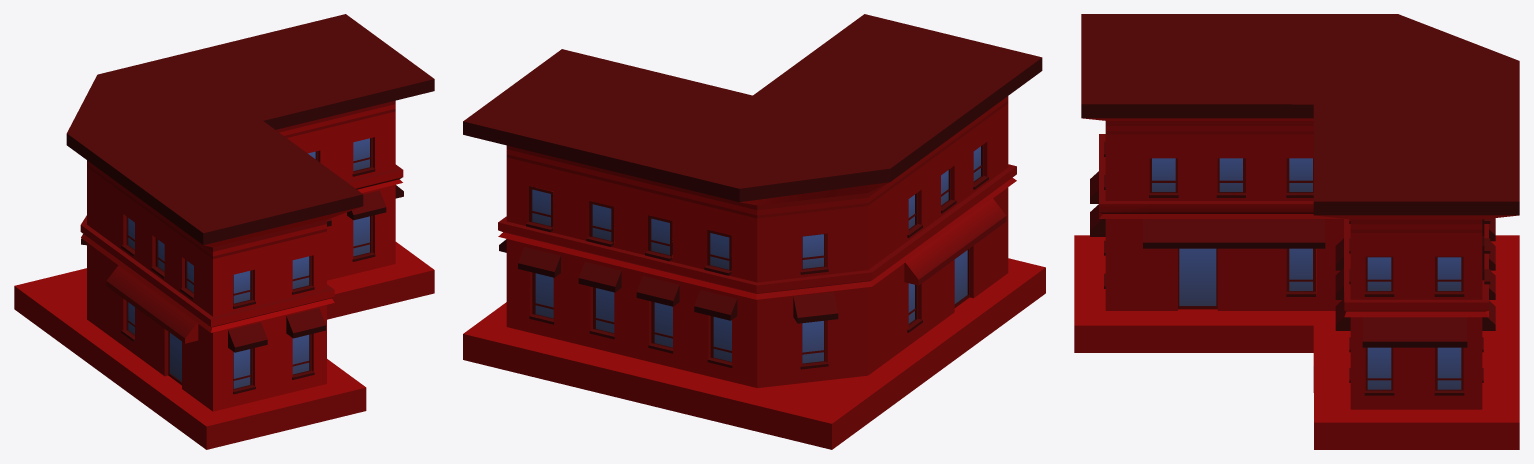
Rendered from RC_ComBuilding2.fbx.
3 views of the same model, side by side, from view 1: azimuth 30°, elevation 25°; view 2: azimuth 150°, elevation 25°; view 3: azimuth 270°, elevation 25° (orthographic). The views are drawn at different scales.
Visible parts, largest first — view 1: base.079, color.008, windowRefl.061; view 2: base.079, windowRefl.061, color.008; view 3: base.079, color.008, windowRefl.061.
Part boxes in pixels (x1,y1,x2,y2): base.079: [14, 14, 434, 449]; color.008: [81, 185, 403, 352]; windowRefl.061: [128, 138, 369, 388]; base.079: [463, 14, 1045, 449]; windowRefl.061: [532, 146, 980, 363]; color.008: [499, 198, 1006, 323]; base.079: [1074, 14, 1519, 449]; color.008: [1090, 171, 1495, 347]; windowRefl.061: [1152, 158, 1461, 389].
Bounding box in the file's own units: 2329 × 1439 × 2339.
